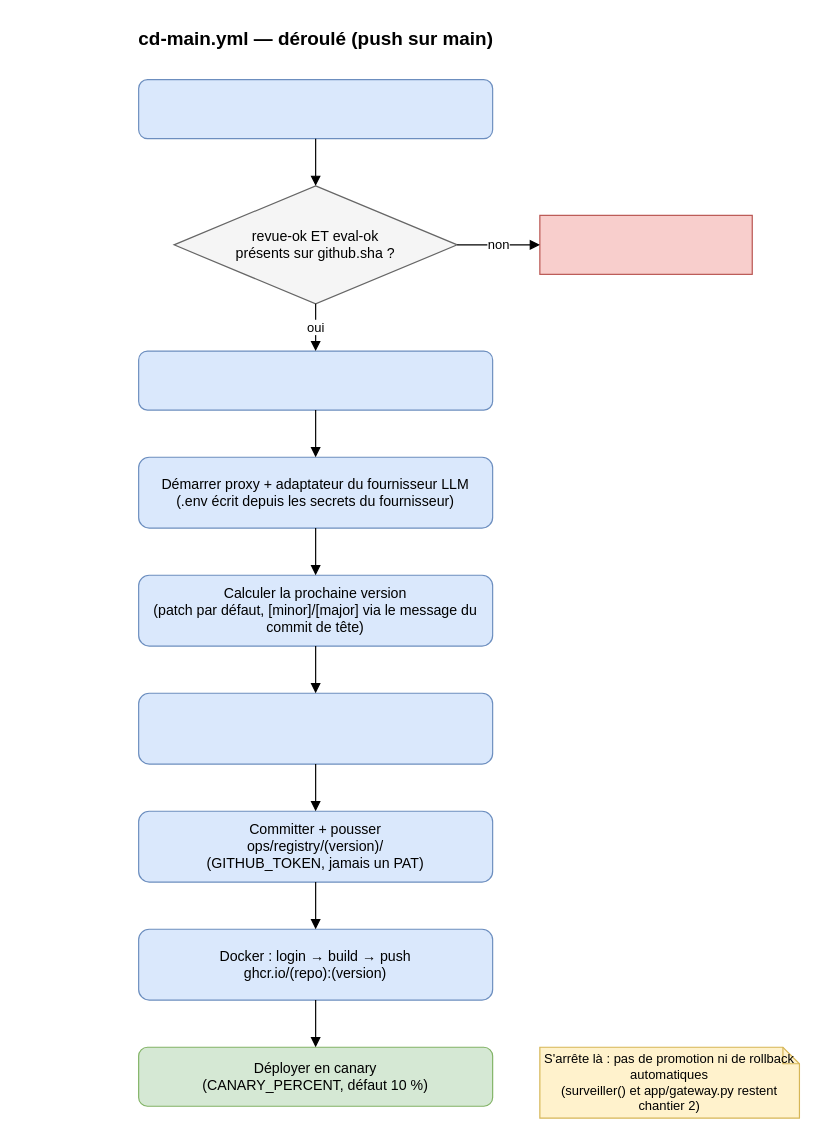
This 820x1139 diagram has some shape labels left out. Here are the shapes that lost their labels. From the top down, the box of each, then its label:
(137, 78, 493, 139): Checkout (fetch-depth: 0)
(539, 214, 752, 274): Refus (exit 1)
(137, 350, 493, 410): Installer les dépendances (uv)
(137, 692, 493, 764): Publier la version (rejoue le vrai gate d'évaluation, étiquette le registre)
